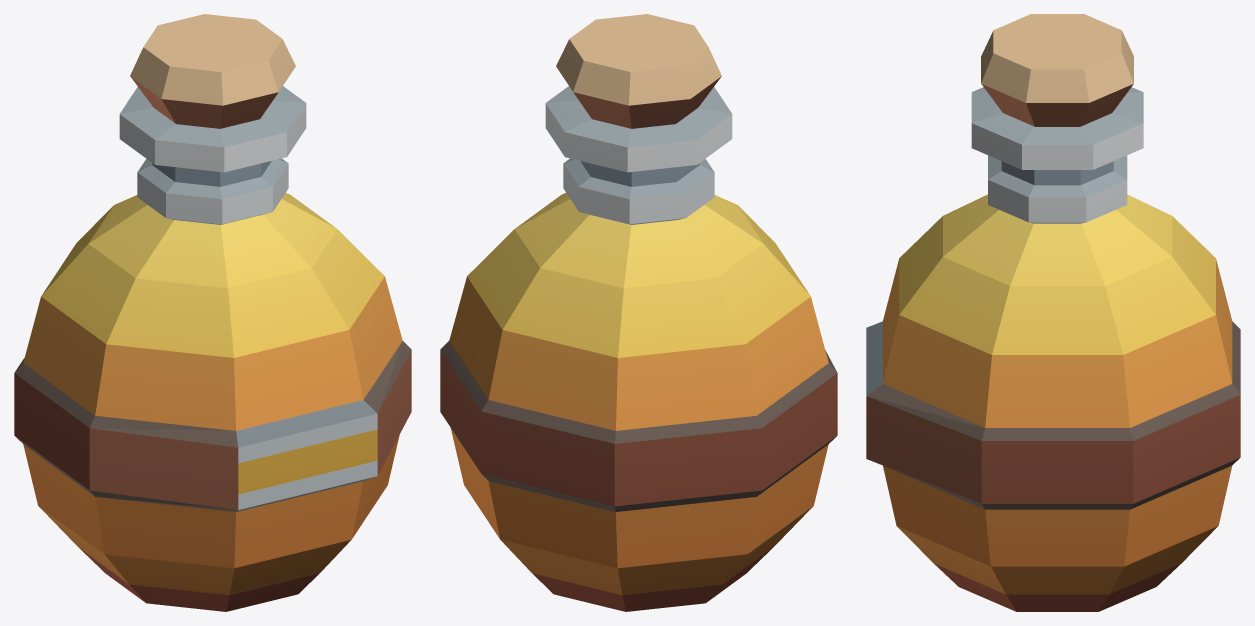
The model's file is potion_large_gold.glb.
3 renders of one model, left to right at view 1: azimuth 30°, elevation 25°; view 2: azimuth 150°, elevation 25°; view 3: azimuth 270°, elevation 25°, orthographic.
Parts seen in each view (by area): view 1: model; view 2: model; view 3: model.
Boxes of the visible parts, left/top/right/bottom form: model: left=14, top=14, right=411, bottom=611; model: left=440, top=14, right=837, bottom=611; model: left=866, top=14, right=1240, bottom=611.
Bounding box in the file's own units: 0.72 × 1.12 × 0.72.
Materials: 1 (1 with a texture image).
